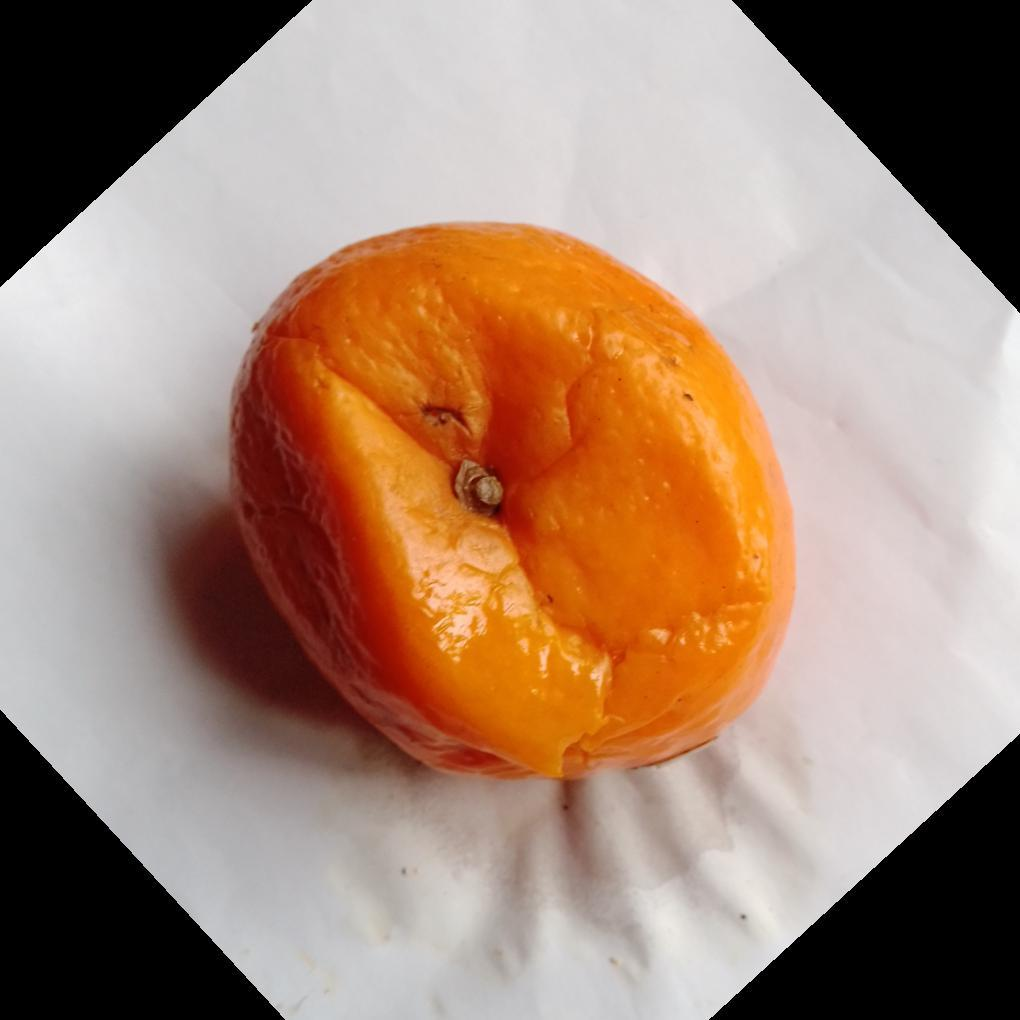FreshOrange: (227, 223, 797, 784)
